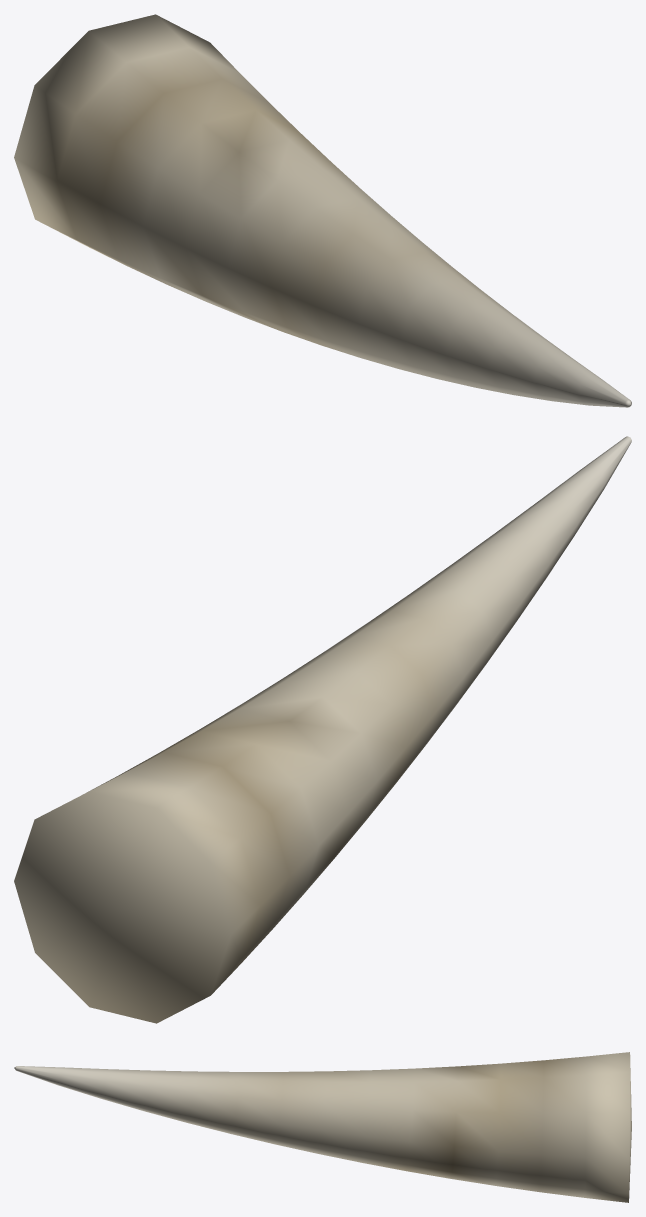
Rendered from bone-horn-a.glb.
The picture shows the model from 3 angles, top to bottom: view 1: azimuth 30°, elevation 25°; view 2: azimuth 150°, elevation 25°; view 3: azimuth 270°, elevation 25°; orthographic projection. The views are drawn at different scales.
Visible parts, largest first — view 1: bone-horn-a; view 2: bone-horn-a; view 3: bone-horn-a.
Part boxes in pixels (<box>): bone-horn-a: <box>14,14,631,407</box>; bone-horn-a: <box>14,436,631,1023</box>; bone-horn-a: <box>14,1052,631,1202</box>.
Bounding box in the file's own units: 0.248 × 0.2359 × 1.01.
